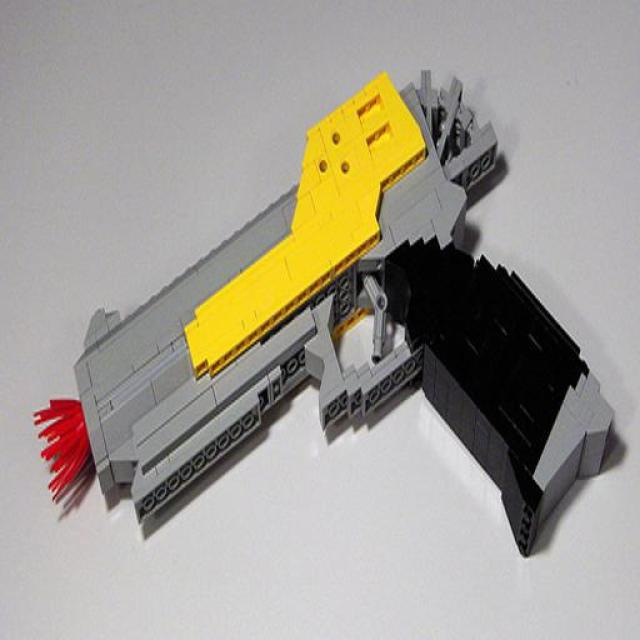pistol: (38, 58, 614, 574)
